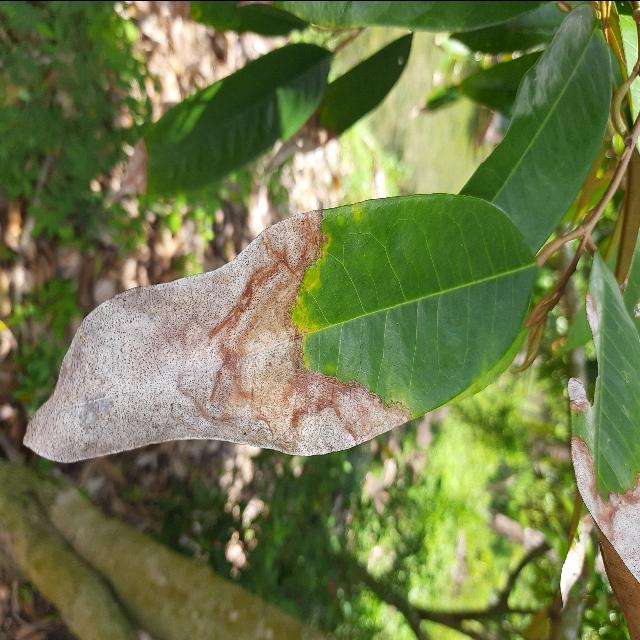Leaf Blight: (7, 189, 543, 467)
